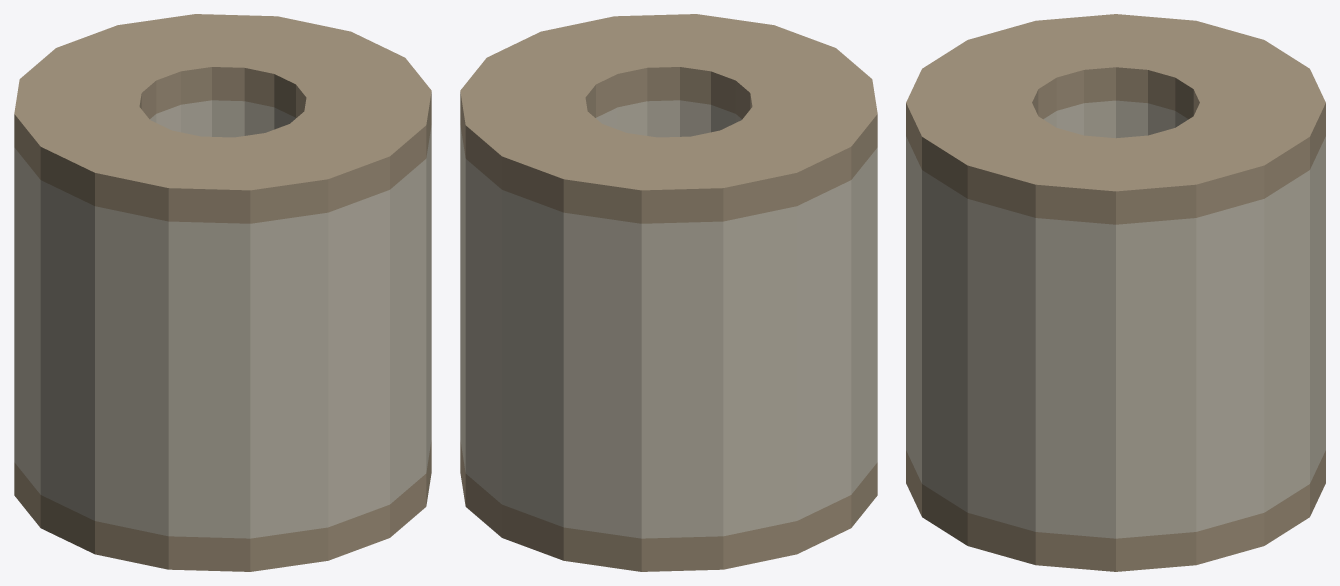
File: CurtainCorner__Drum.fbx
3 renders of one model, left to right at view 1: azimuth 30°, elevation 25°; view 2: azimuth 150°, elevation 25°; view 3: azimuth 270°, elevation 25°, orthographic.
Parts seen in each view (by area): view 1: CurtainCorner__Drum; view 2: CurtainCorner__Drum; view 3: CurtainCorner__Drum.
Part boxes in pixels (x1,y1,x2,y2): CurtainCorner__Drum: (14, 14, 431, 571); CurtainCorner__Drum: (460, 14, 877, 571); CurtainCorner__Drum: (906, 14, 1325, 571).
Size of the model in its own units: 400 by 400 by 400.
1 material, 1 textured.
